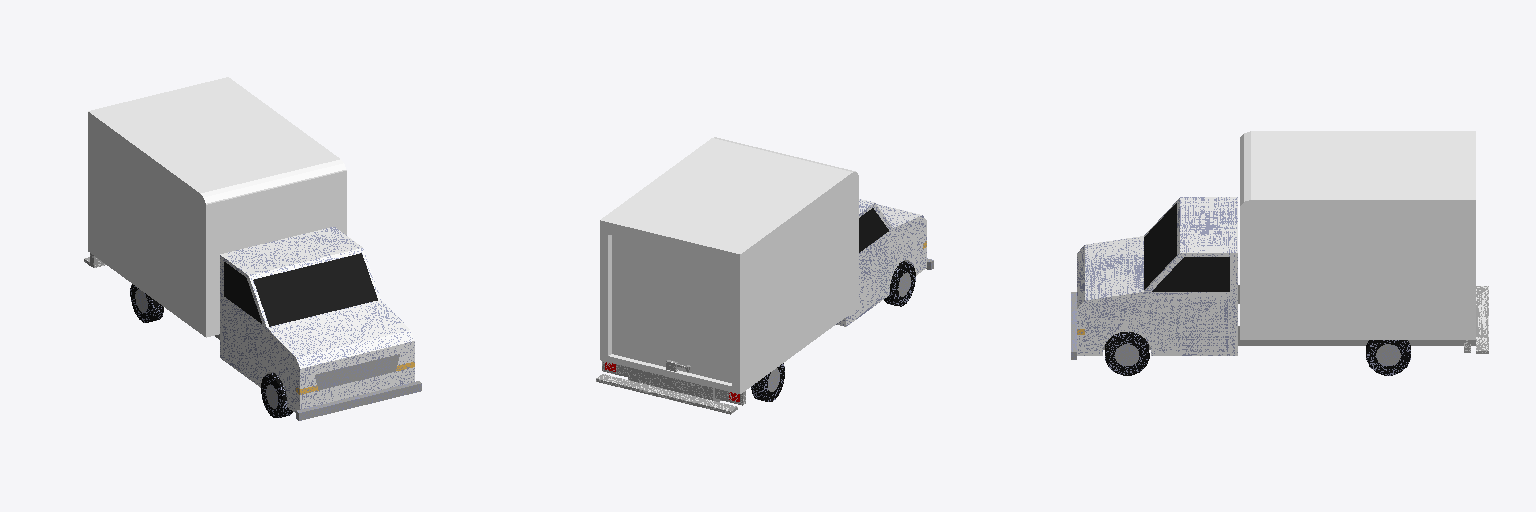
3 renders of one model, left to right at view 1: azimuth 30°, elevation 25°; view 2: azimuth 150°, elevation 25°; view 3: azimuth 270°, elevation 25°, orthographic.
Parts seen in each view (by area): view 1: Mesh14 BedMid1 BedBox_1_1 Model, Mesh1 TruckCabHalf1 Cab1 Model, Mesh23 BedFront1 BedBox_1_1 Model, Mesh4 TruckCabHalf2 Cab1 Model, Mesh45 TruckDoor1 Model, Mesh7 BedEnd1 BedBox_1_1 Model, Mesh30 TruckTire2 Model, Mesh40 TruckTireBack2 BackTires1 Model; view 2: Mesh14 BedMid1 BedBox_1_1 Model, Mesh7 BedEnd1 BedBox_1_1 Model, Mesh1 TruckCabHalf1 Cab1 Model, Mesh45 TruckDoor1 Model, Mesh23 BedFront1 BedBox_1_1 Model, Mesh30 TruckTire2 Model, Mesh40 TruckTireBack2 BackTires1 Model; view 3: Mesh14 BedMid1 BedBox_1_1 Model, Mesh4 TruckCabHalf2 Cab1 Model, Mesh47 TruckDoor_1_1 Model, Mesh7 BedEnd1 BedBox_1_1 Model, Mesh1 TruckCabHalf1 Cab1 Model, Mesh23 BedFront1 BedBox_1_1 Model, Mesh25 TruckTire1 Model, Mesh35 TruckTireBack1 BackTires1 Model.
Part boxes in pixels (x1,y1,x2,y2): Mesh14 BedMid1 BedBox_1_1 Model: (97, 84, 339, 339); Mesh1 TruckCabHalf1 Cab1 Model: (220, 241, 360, 420); Mesh23 BedFront1 BedBox_1_1 Model: (200, 159, 346, 337); Mesh4 TruckCabHalf2 Cab1 Model: (277, 227, 421, 405); Mesh45 TruckDoor1 Model: (224, 262, 263, 382); Mesh7 BedEnd1 BedBox_1_1 Model: (84, 77, 236, 267); Mesh30 TruckTire2 Model: (261, 373, 292, 417); Mesh40 TruckTireBack2 BackTires1 Model: (130, 284, 163, 322); Mesh14 BedMid1 BedBox_1_1 Model: (609, 138, 852, 386); Mesh7 BedEnd1 BedBox_1_1 Model: (596, 214, 749, 414); Mesh1 TruckCabHalf1 Cab1 Model: (836, 199, 933, 326); Mesh45 TruckDoor1 Model: (850, 208, 889, 319); Mesh23 BedFront1 BedBox_1_1 Model: (714, 137, 858, 311); Mesh30 TruckTire2 Model: (884, 261, 915, 306); Mesh40 TruckTireBack2 BackTires1 Model: (751, 363, 784, 401); Mesh14 BedMid1 BedBox_1_1 Model: (1251, 131, 1456, 345); Mesh4 TruckCabHalf2 Cab1 Model: (1071, 225, 1237, 359); Mesh47 TruckDoor_1_1 Model: (1150, 257, 1229, 351); Mesh7 BedEnd1 BedBox_1_1 Model: (1457, 131, 1488, 353); Mesh1 TruckCabHalf1 Cab1 Model: (1071, 197, 1237, 321); Mesh23 BedFront1 BedBox_1_1 Model: (1238, 131, 1250, 345); Mesh25 TruckTire1 Model: (1105, 332, 1149, 375); Mesh35 TruckTireBack1 BackTires1 Model: (1366, 340, 1410, 375).
Size of the model in its own units: 97 by 119 by 250.